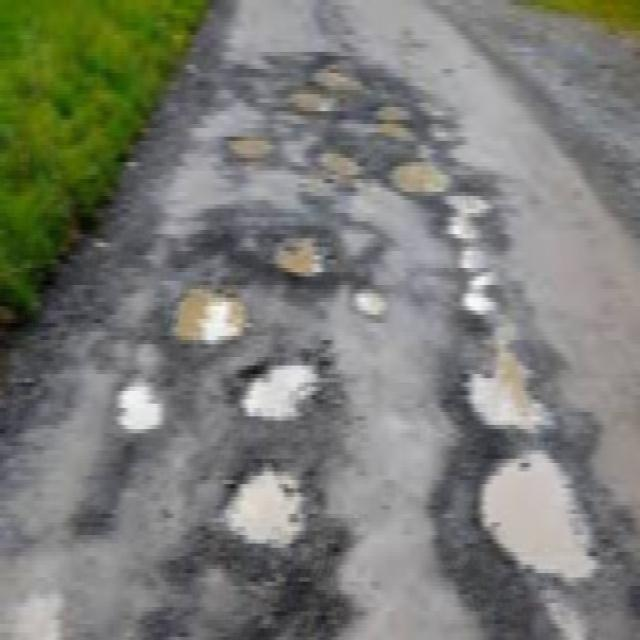Pothole: (464, 434, 601, 598), (440, 326, 580, 439), (197, 452, 319, 562), (440, 187, 510, 314), (228, 349, 328, 423), (242, 216, 338, 279), (260, 58, 362, 116), (156, 285, 252, 345), (102, 369, 174, 436), (373, 150, 468, 194), (345, 104, 435, 148), (338, 276, 396, 333), (339, 214, 393, 264), (221, 124, 281, 168)
